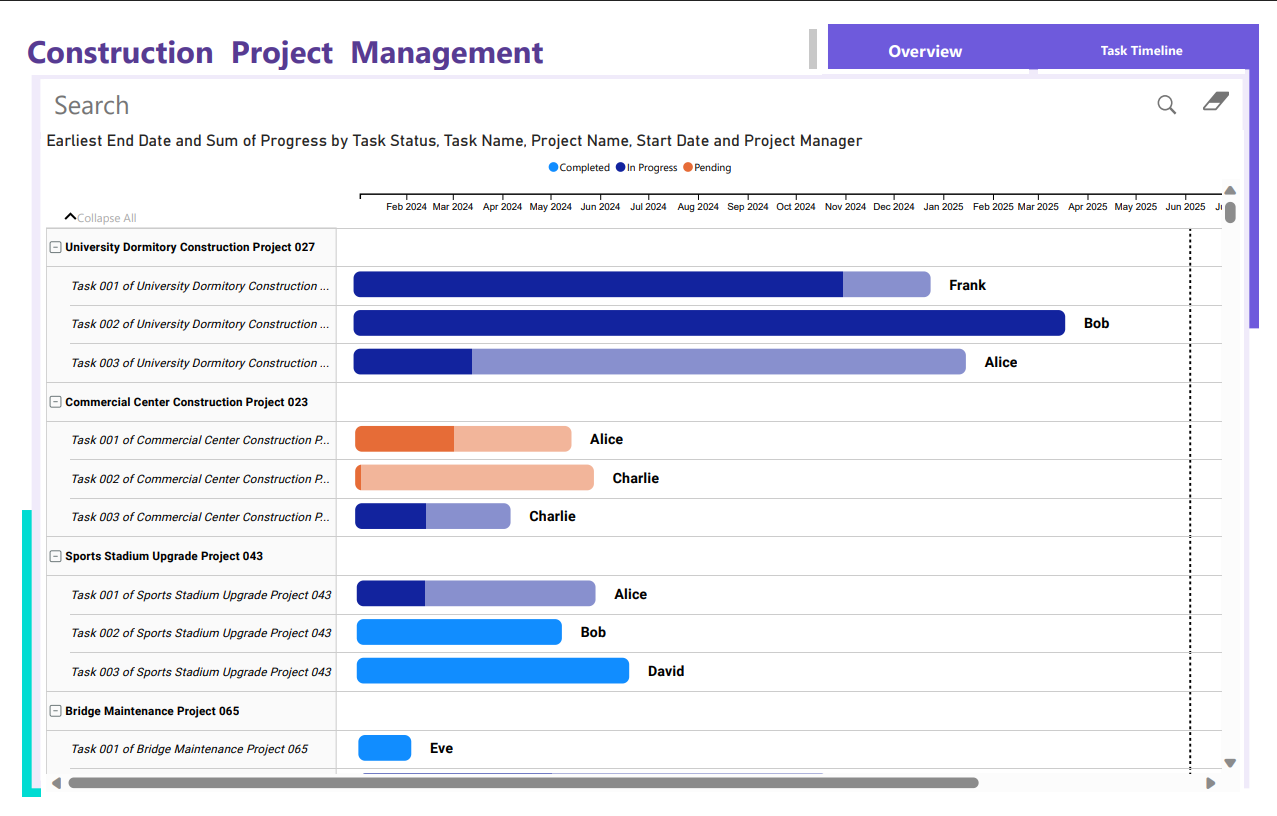

The page's visual inventory and layout, read from the dashboard file:
{"tool":"powerbi","page":{"name":"Task Timeline","canvas":[1280,800],"ordinal":1},"visuals":[{"type":"textFilter25A4896A83E0487089E2B90C9AE57C8A","fields":{"field":["Project Management.Task Name"]},"box":[18,52,1248,60],"z":0},{"type":"Gantt1448688115699","fields":{"Task":["Project Management.Task Name"],"Parent":["Project Management.Project Name"],"StartDate":["Project Management.Start Date"],"EndDate":["Project Management.End Date"],"Completion":["Project Management.Progress"],"Resource":["dimProjectManager.Project Manager"],"Legend":["dimTaskStatus.Task Status"]},"box":[20,110,1245,690],"z":1},{"type":"textbox","box":[0,0,828,52],"z":2},{"type":"pageNavigator","box":[828,0,438,52],"z":3}]}

Visuals, with their boxes on the page's 1280x800 design canvas (x1, y1, x2, y2). These are canvas units, not pixel positions in the 1277x816 screenshot, which may show the page scaled, cropped or inside an application window:
textFilter25A4896A83E0487089E2B90C9AE57C8A - Project Management.Task Name: bbox=[18, 52, 1266, 112]
Gantt1448688115699 - Project Management.Task Name x Project Management.Project Name: bbox=[20, 110, 1265, 800]
textbox: bbox=[0, 0, 828, 52]
pageNavigator: bbox=[828, 0, 1266, 52]
